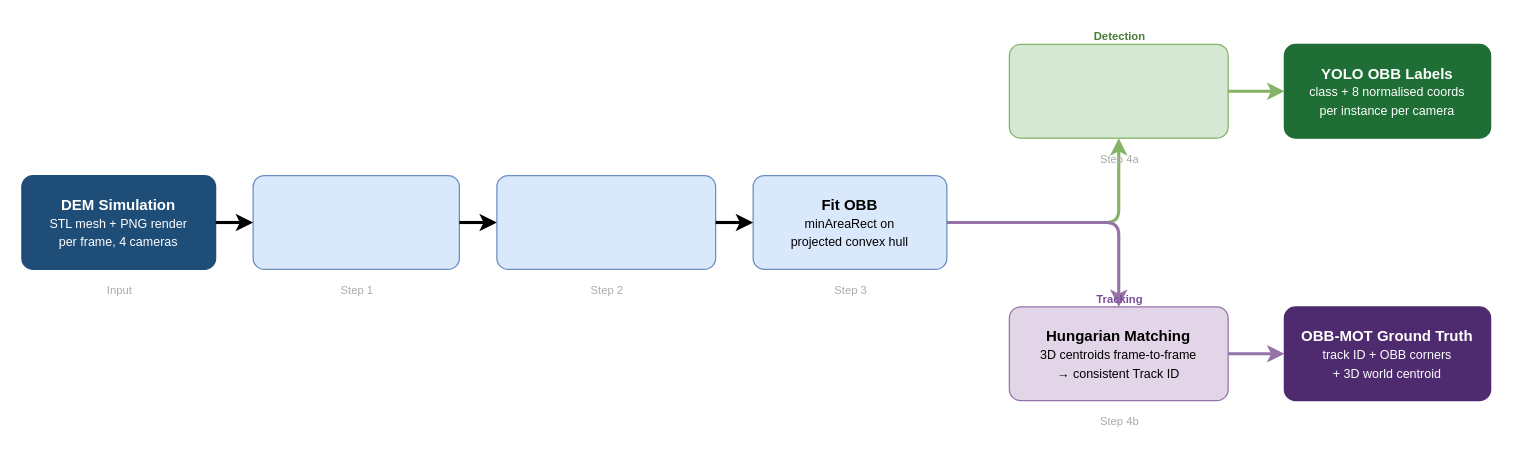
Some shapes in this 1513 by 450 pixel diagram are drawn without their labels. The shapes that lost their labels are listed below. From the top down, each one's centre as x and y in pixels, then its label:
[1118,90]: HSV Colour Sample 13×13 patch at centroid → nearest-class threshold
[355,221]: Separate Meshes Import STL frame one mesh per polybag
[606,221]: Project Vertices 3D → 2D per camera world_to_camera_view()
